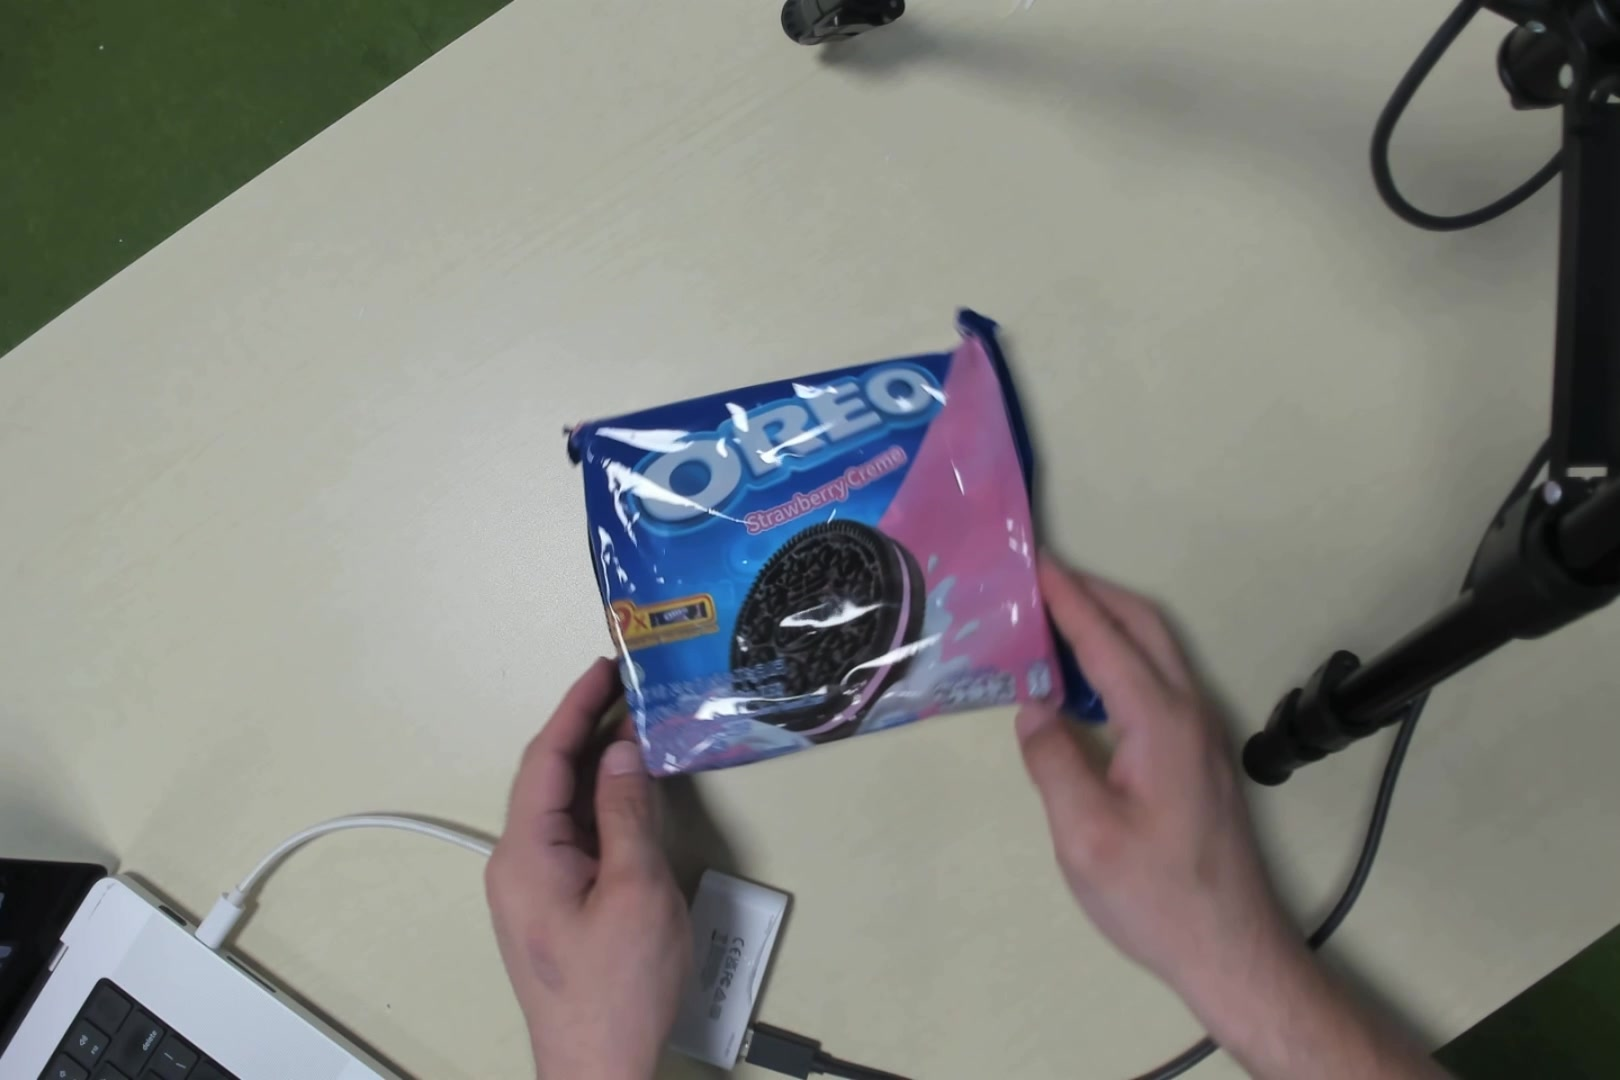SweetsChocolatesOthers_200-299g_Halal_NonHealthy: (581, 350, 1047, 730)
